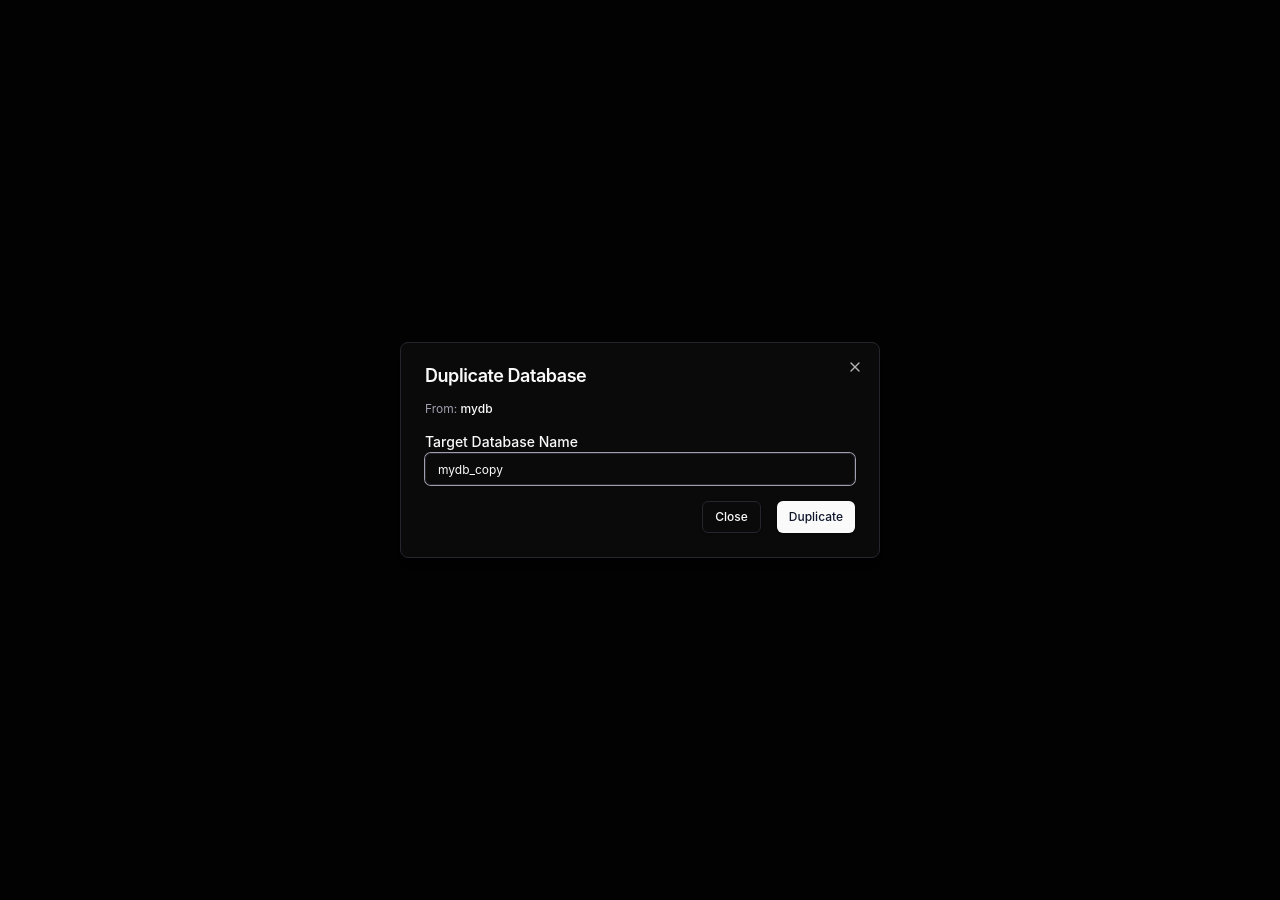
shows error when duplicate fails
Click the button "Duplicate" at (816, 517), box [777, 501, 855, 533]
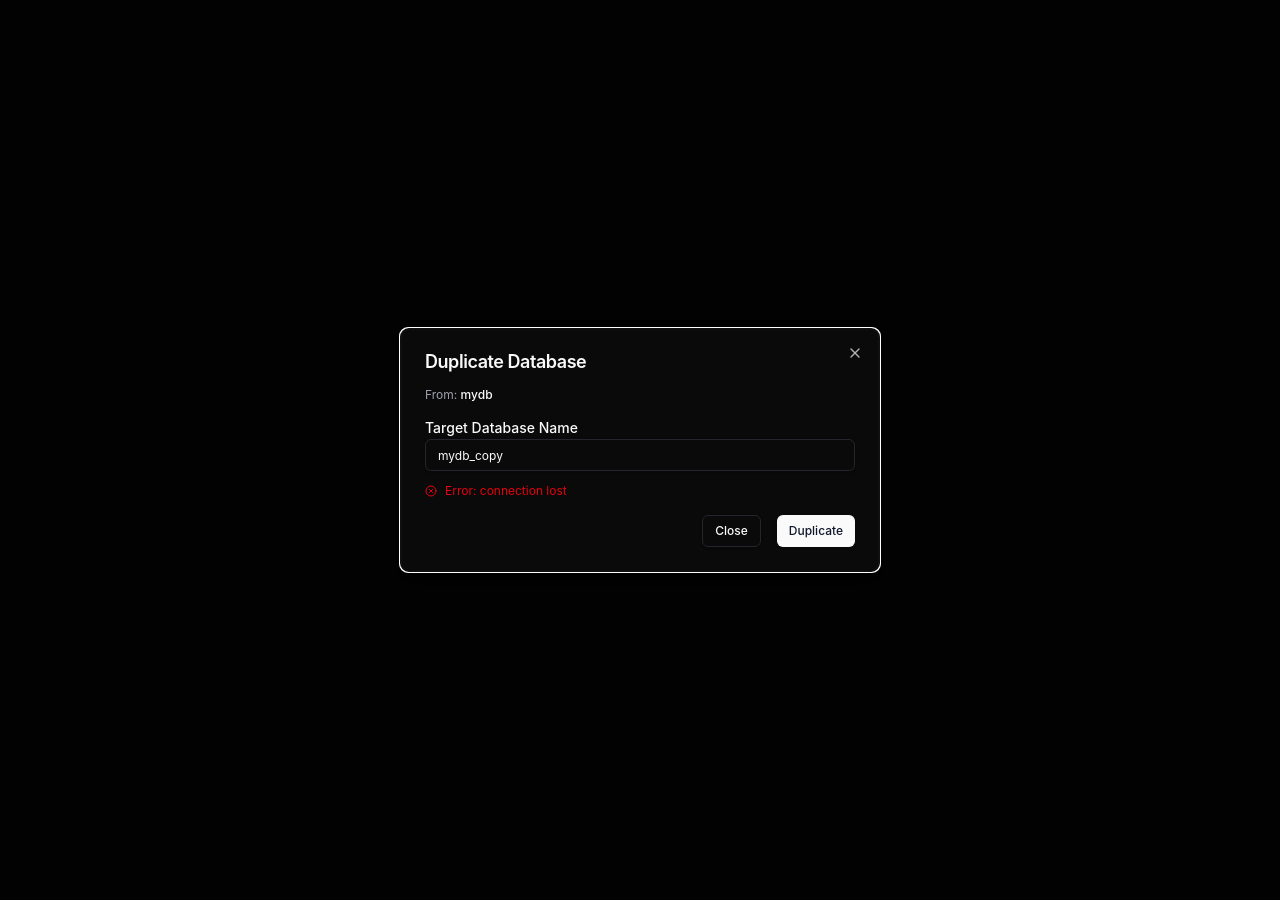
Expected: the text "Error: connection lost" is shown, [445, 483, 567, 499]
